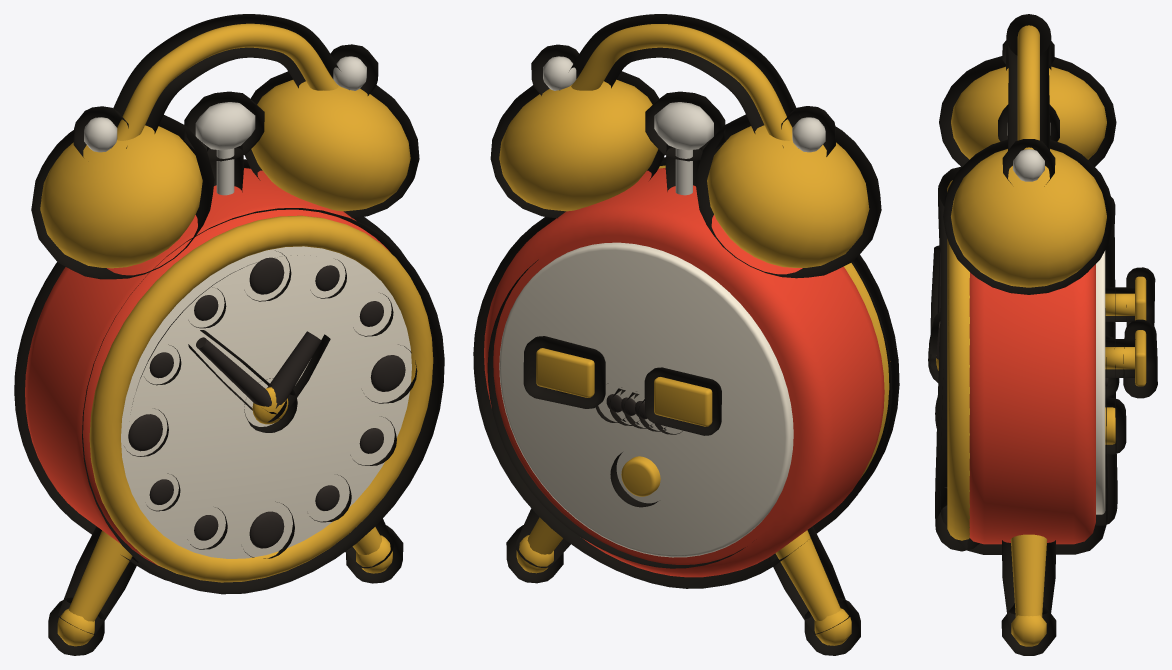
Rendered from alarmclock.glb.
The picture shows the model from 3 angles, left to right: view 1: azimuth 30°, elevation 25°; view 2: azimuth 150°, elevation 25°; view 3: azimuth 270°, elevation 25°; orthographic projection. The views are drawn at different scales.
Parts seen in each view (by area): view 1: AlarmClock, AlarmClock_outline; view 2: AlarmClock, AlarmClock_outline; view 3: AlarmClock, AlarmClock_outline.
Part boxes in pixels (<box>): AlarmClock: <box>25,23,433,646</box>; AlarmClock_outline: <box>14,14,444,655</box>; AlarmClock: <box>484,24,890,645</box>; AlarmClock_outline: <box>473,14,899,655</box>; AlarmClock: <box>936,25,1146,646</box>; AlarmClock_outline: <box>928,14,1157,655</box>.
Bounding box in the file's own units: 1.06 × 1.65 × 0.6173.
